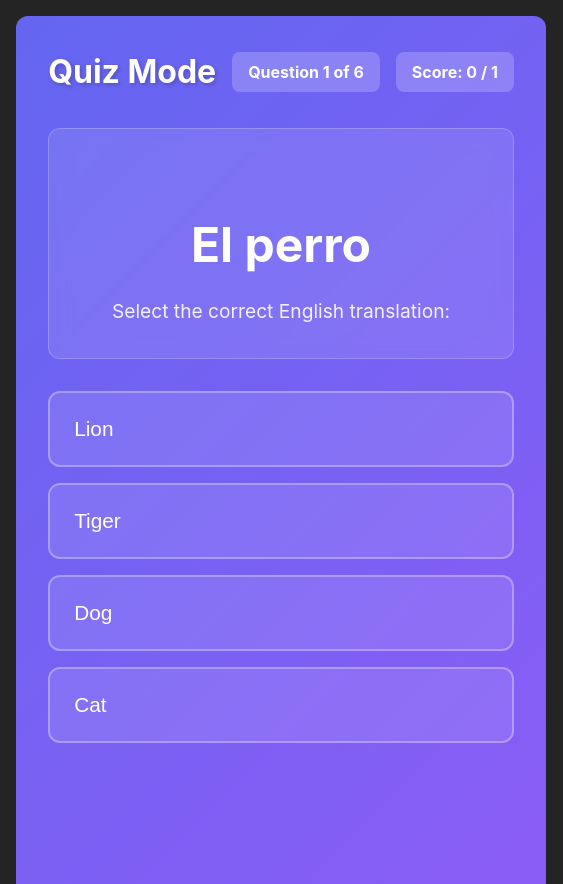
Test case: QuizView Component › should show feedback immediately after selection
The width and height of the screenshot is (563, 884).
Click the button "Dog" at (93, 612), box [48,575,514,651]
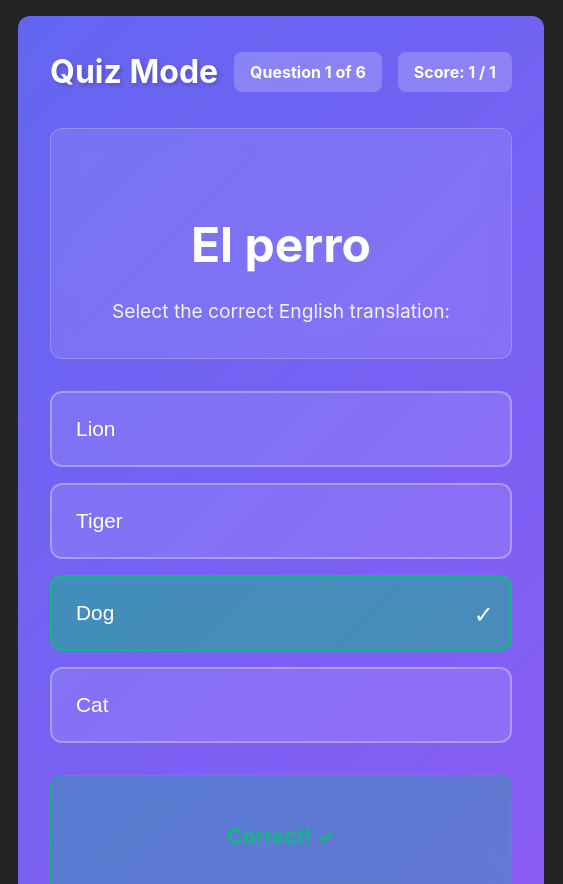
Expected: the text "Correct! ✓" is shown, [227,824,335,849]
